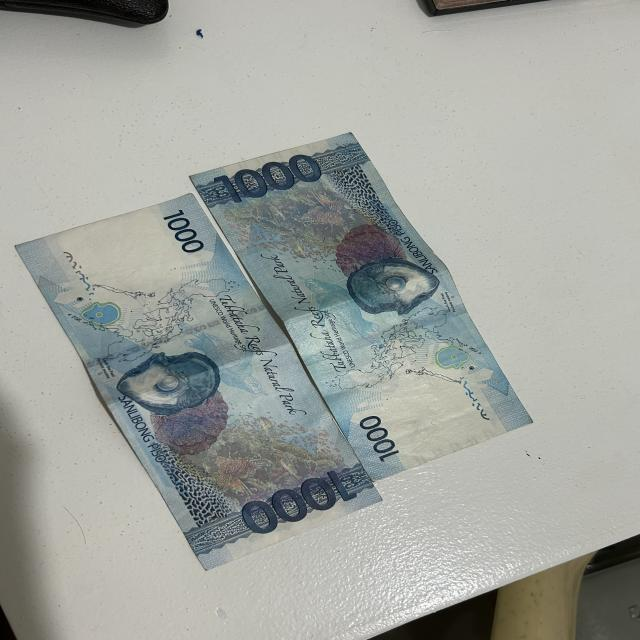1000_pearl: (118, 351, 224, 416), (340, 260, 436, 310)
1000_pearl_watermark: (82, 302, 134, 333), (435, 348, 469, 371)
